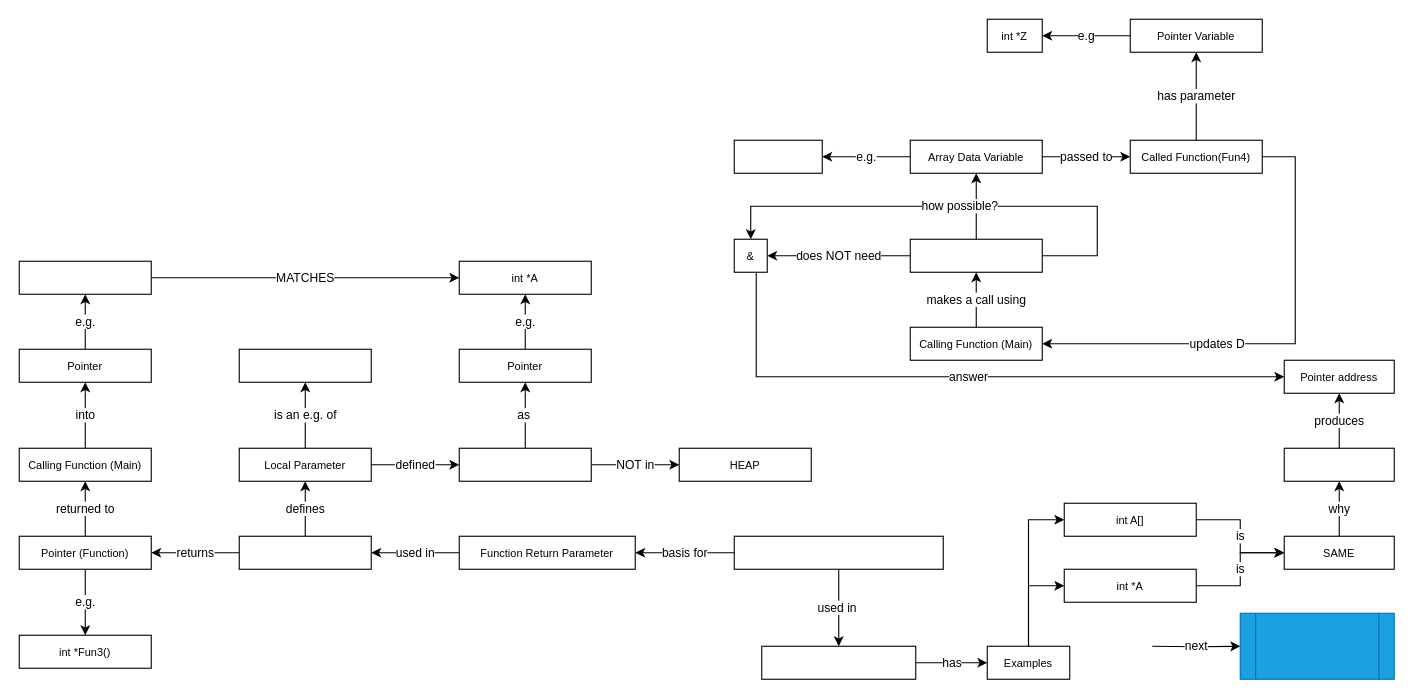
Image size: 1414x699. Some labels were removed from this diagram. Each missing label, with the centre of its shape:
"Array" goes at [838,552].
"Called Function (Fun3)" goes at [304,552].
"cout<<A<<endl" goes at [1338,464].
"Function Parameters" goes at [838,662].
"int *C" goes at [84,277].
"int D[5]" goes at [777,156].
"NEXT Recursion" goes at [1316,645].
"Passing by Address" goes at [975,255].
"Return by Address" goes at [304,365].
"Stack" goes at [524,464].
